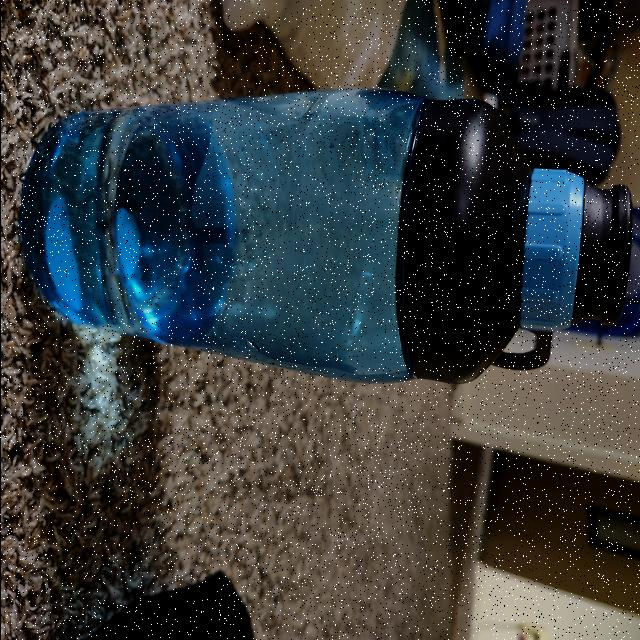bottle: (21, 66, 628, 406)
